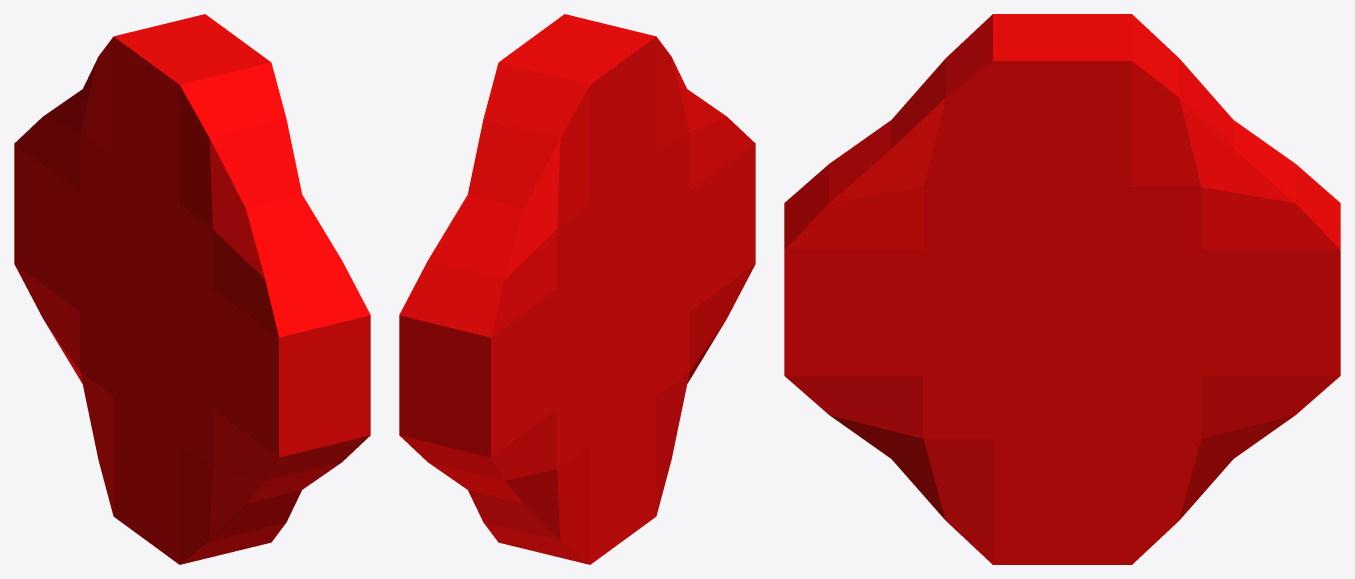
File: Cancel.glb
3 views of the same model, side by side, from view 1: azimuth 30°, elevation 25°; view 2: azimuth 150°, elevation 25°; view 3: azimuth 270°, elevation 25° (orthographic). The views are drawn at different scales.
Parts seen in each view (by area): view 1: Cube; view 2: Cube; view 3: Cube.
Part boxes in pixels (<box>): Cube: <box>14,14,370,564</box>; Cube: <box>399,14,755,564</box>; Cube: <box>784,14,1340,564</box>.
Bounding box in the file's own units: 0.4 × 2 × 2.
Materials: 1 (1 with a texture image).
